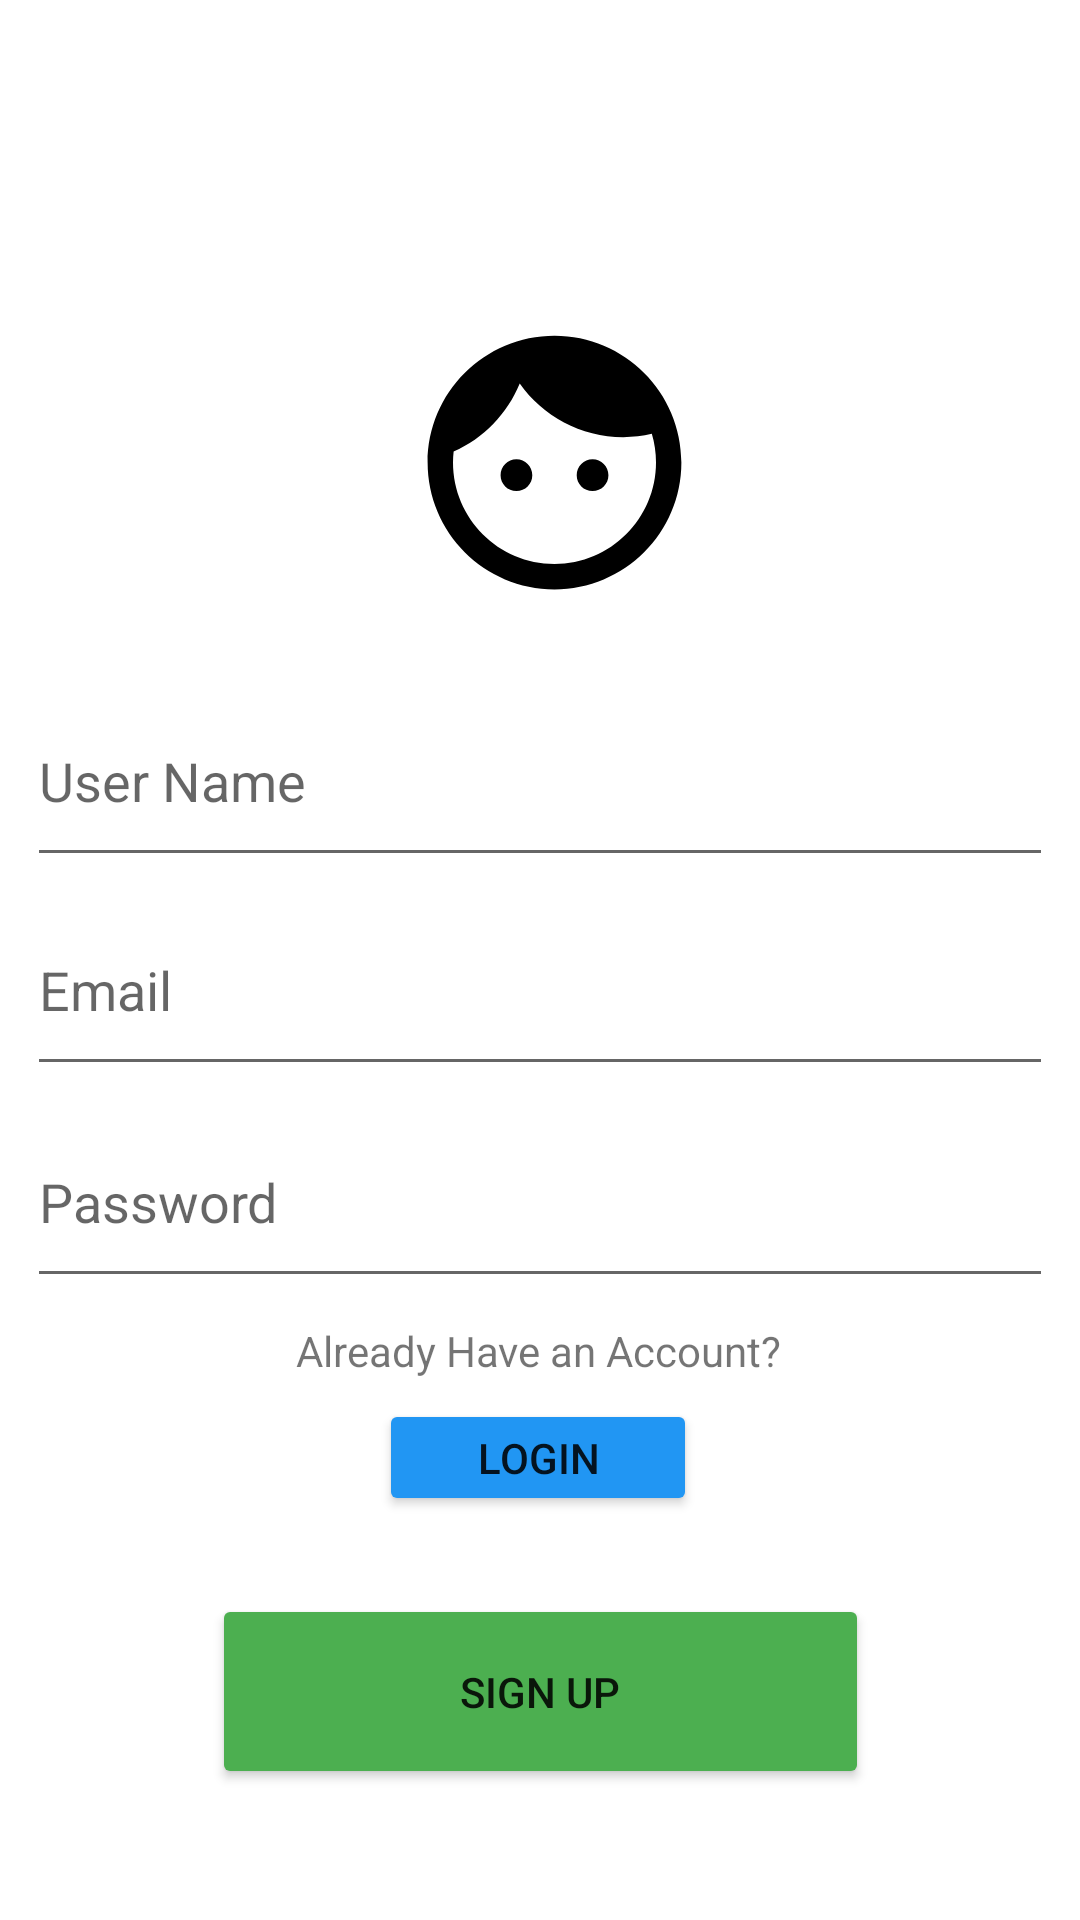

Icon bounding boxes for this 1080px x 1920px phone screenshot, format (x1, y1, x2, y2):
faceblack: (427, 335, 682, 590)
